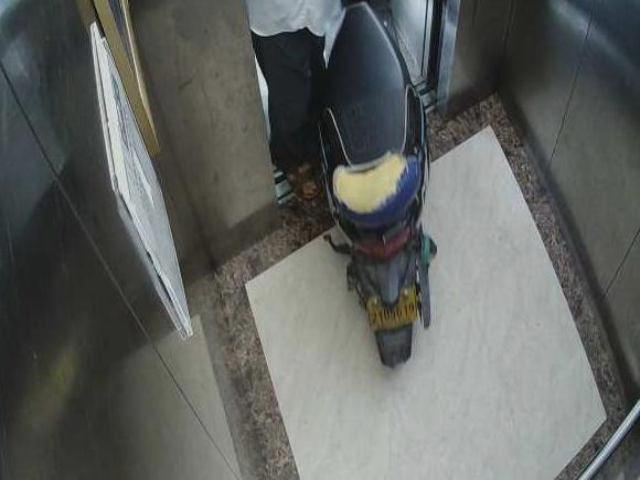emotor: (293, 10, 452, 390)
